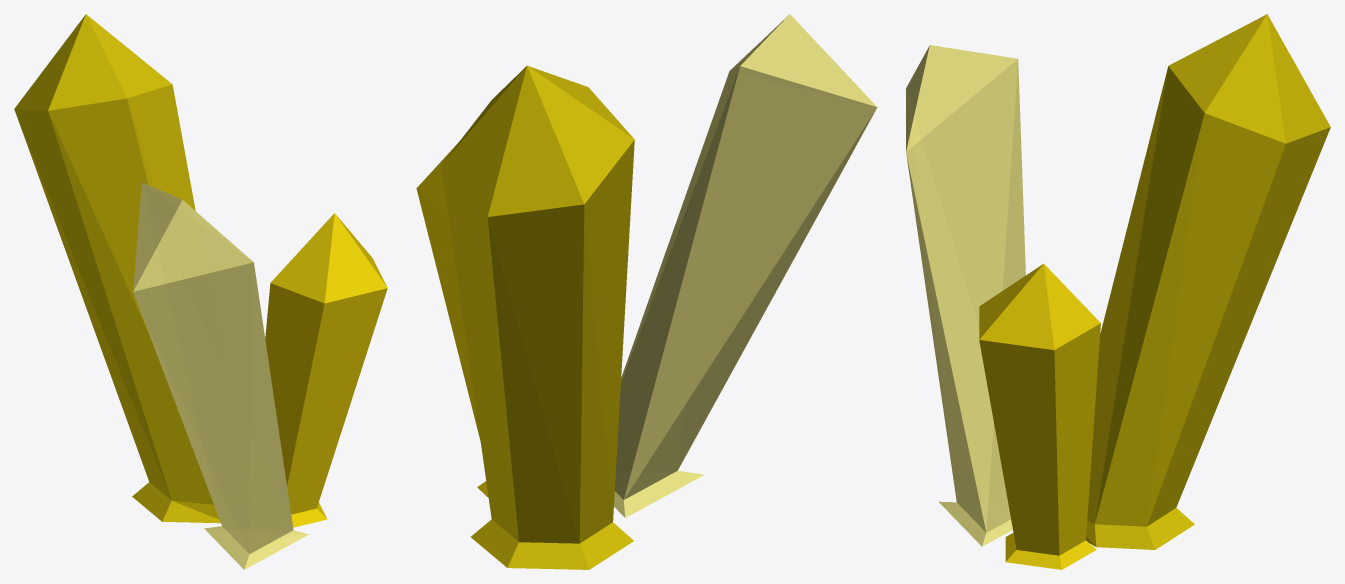
Rendered from Crystal_yellow_middle.fbx.
3 renders of one model, left to right at view 1: azimuth 30°, elevation 25°; view 2: azimuth 150°, elevation 25°; view 3: azimuth 270°, elevation 25°, orthographic. The views are drawn at different scales.
Visible parts, largest first — view 1: prop_crystal_yellow_middle; view 2: prop_crystal_yellow_middle; view 3: prop_crystal_yellow_middle.
Boxes of the visible parts, bbox=[...] form: prop_crystal_yellow_middle: bbox=[14, 14, 387, 569]; prop_crystal_yellow_middle: bbox=[416, 14, 877, 569]; prop_crystal_yellow_middle: bbox=[906, 14, 1330, 569].
Bounding box in the file's own units: 44.13 × 61.15 × 48.62.
